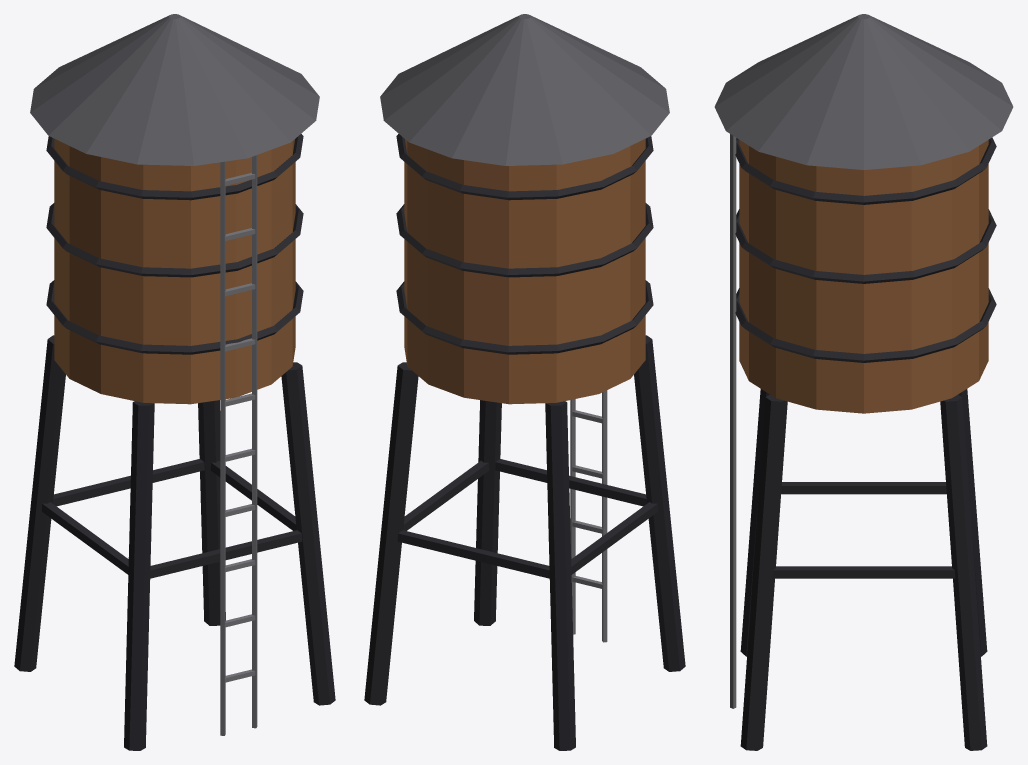
Rendered from WaterTower.fbx.
3 views of the same model, side by side, from view 1: azimuth 30°, elevation 25°; view 2: azimuth 150°, elevation 25°; view 3: azimuth 270°, elevation 25° (orthographic). The views are drawn at different scales.
Visible parts, largest first — view 1: Tank, Legs, Roof, Ladder; view 2: Tank, Legs, Roof, Ladder; view 3: Tank, Legs, Roof, Ladder.
Part boxes in pixels (<box>): Tank: <box>54,138,295,404</box>; Legs: <box>14,133,335,750</box>; Roof: <box>30,14,319,165</box>; Ladder: <box>220,155,257,735</box>; Tank: <box>404,138,645,404</box>; Legs: <box>364,133,685,750</box>; Roof: <box>380,14,669,165</box>; Ladder: <box>570,390,607,642</box>; Tank: <box>739,140,988,413</box>; Legs: <box>735,137,996,750</box>; Roof: <box>714,14,1013,169</box>; Ladder: <box>730,134,736,708</box>.
Bounding box in the file's own units: 4.8 × 12.12 × 4.8.
